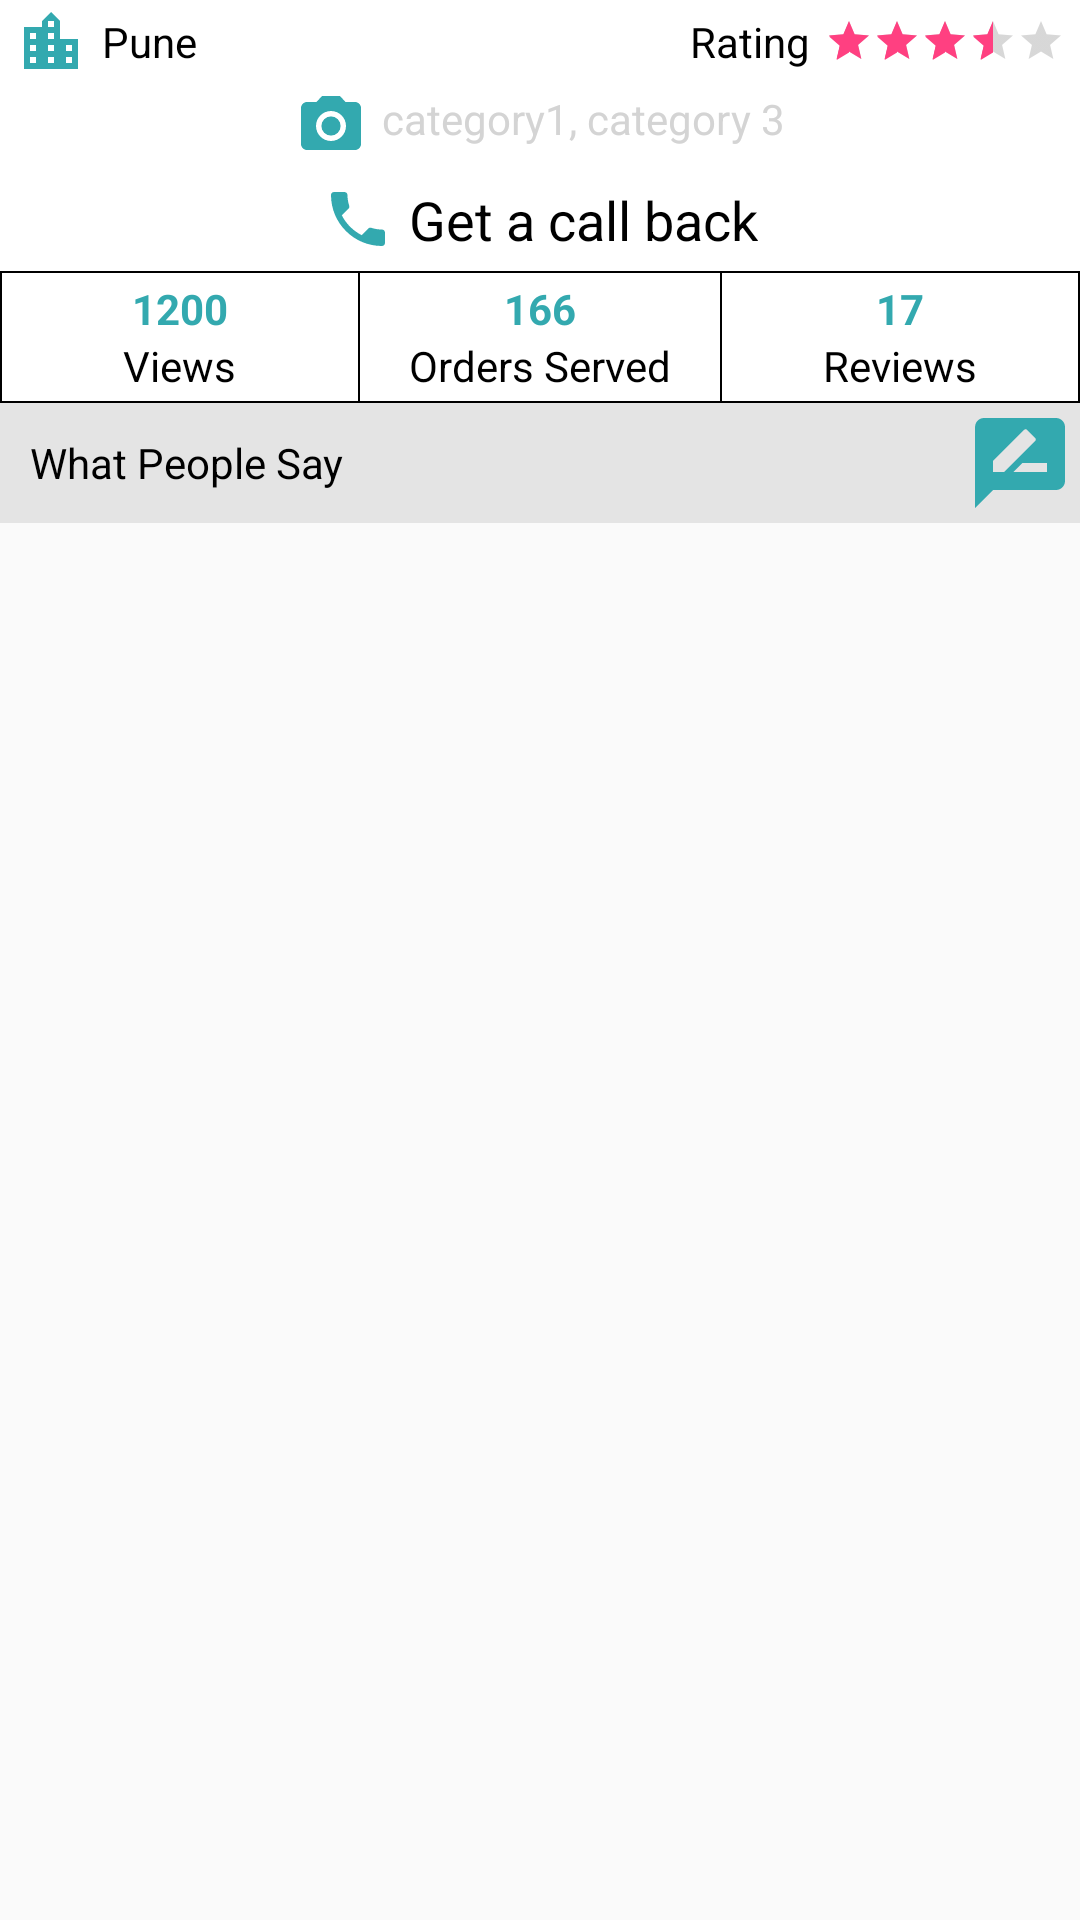

Named icons in this screenshot (1080×1920) and their bounding boxes, {"left": x1, "top": y1, "right": x2, "bottom": y2}:
camera: {"left": 301, "top": 96, "right": 361, "bottom": 150}
location city: {"left": 24, "top": 12, "right": 78, "bottom": 69}
rate review: {"left": 975, "top": 418, "right": 1065, "bottom": 508}
